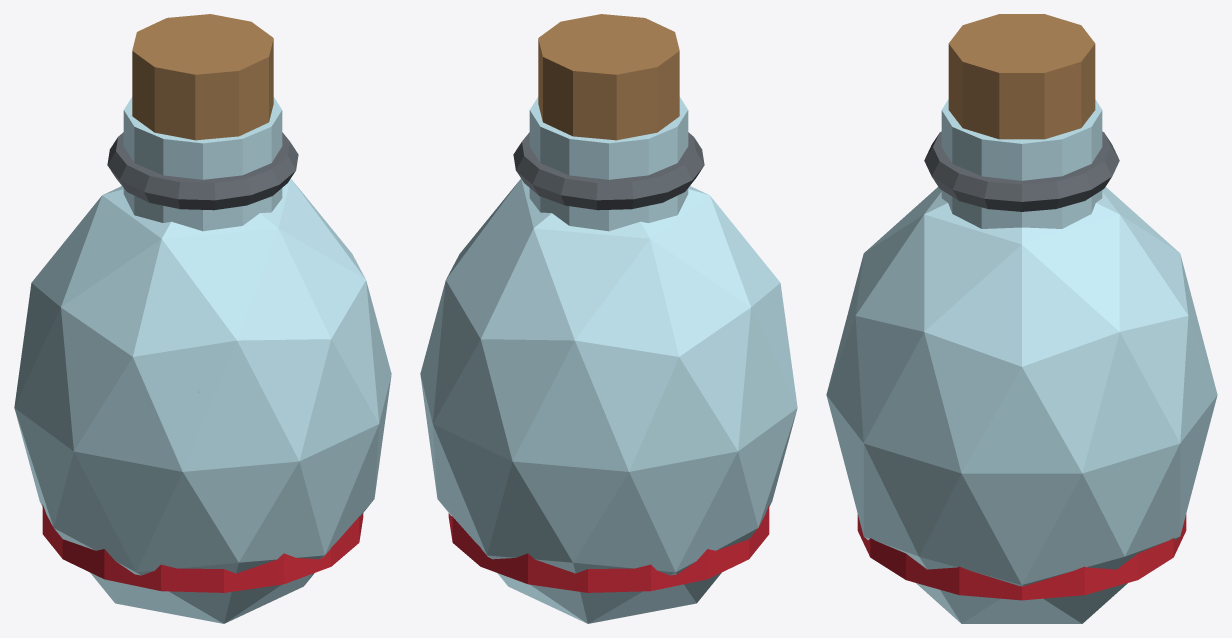
The model's file is health-potion.glb.
The picture shows the model from 3 angles, left to right: view 1: azimuth 30°, elevation 25°; view 2: azimuth 150°, elevation 25°; view 3: azimuth 270°, elevation 25°; orthographic projection.
Visible parts, largest first — view 1: Bottle body, Cork stopper, Bottle neck, Potion liquid, Bottle collar; view 2: Bottle body, Cork stopper, Bottle neck, Potion liquid, Bottle collar; view 3: Bottle body, Cork stopper, Bottle neck, Potion liquid, Bottle collar.
Part boxes in pixels (bbox=[...]): Bottle body: bbox=[14, 178, 391, 623]; Cork stopper: bbox=[132, 14, 273, 140]; Bottle neck: bbox=[123, 97, 282, 231]; Potion liquid: bbox=[42, 504, 363, 592]; Bottle collar: bbox=[107, 132, 298, 210]; Bottle body: bbox=[420, 178, 797, 623]; Cork stopper: bbox=[538, 14, 679, 140]; Bottle neck: bbox=[529, 97, 688, 231]; Potion liquid: bbox=[448, 504, 769, 592]; Bottle collar: bbox=[513, 132, 704, 210]; Bottle body: bbox=[826, 187, 1217, 623]; Cork stopper: bbox=[948, 14, 1095, 139]; Bottle neck: bbox=[941, 99, 1102, 228]; Potion liquid: bbox=[857, 514, 1186, 600]; Bottle collar: bbox=[924, 131, 1119, 211].
Bounding box in the file's own units: 0.5326 × 0.915 × 0.56.
